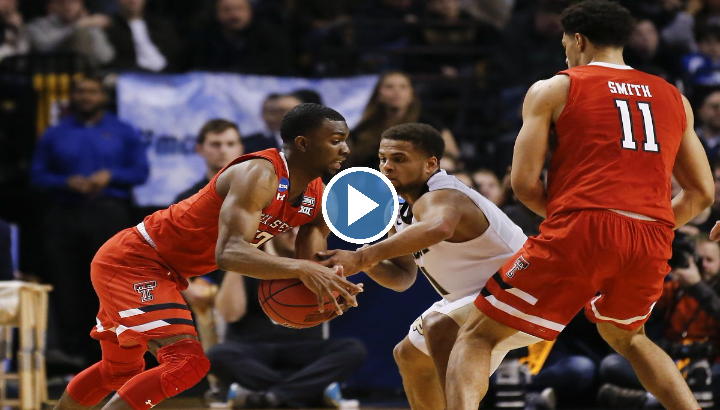ball: (255, 259, 343, 330)
player: (447, 6, 716, 410), (53, 100, 357, 410), (356, 124, 531, 410)
